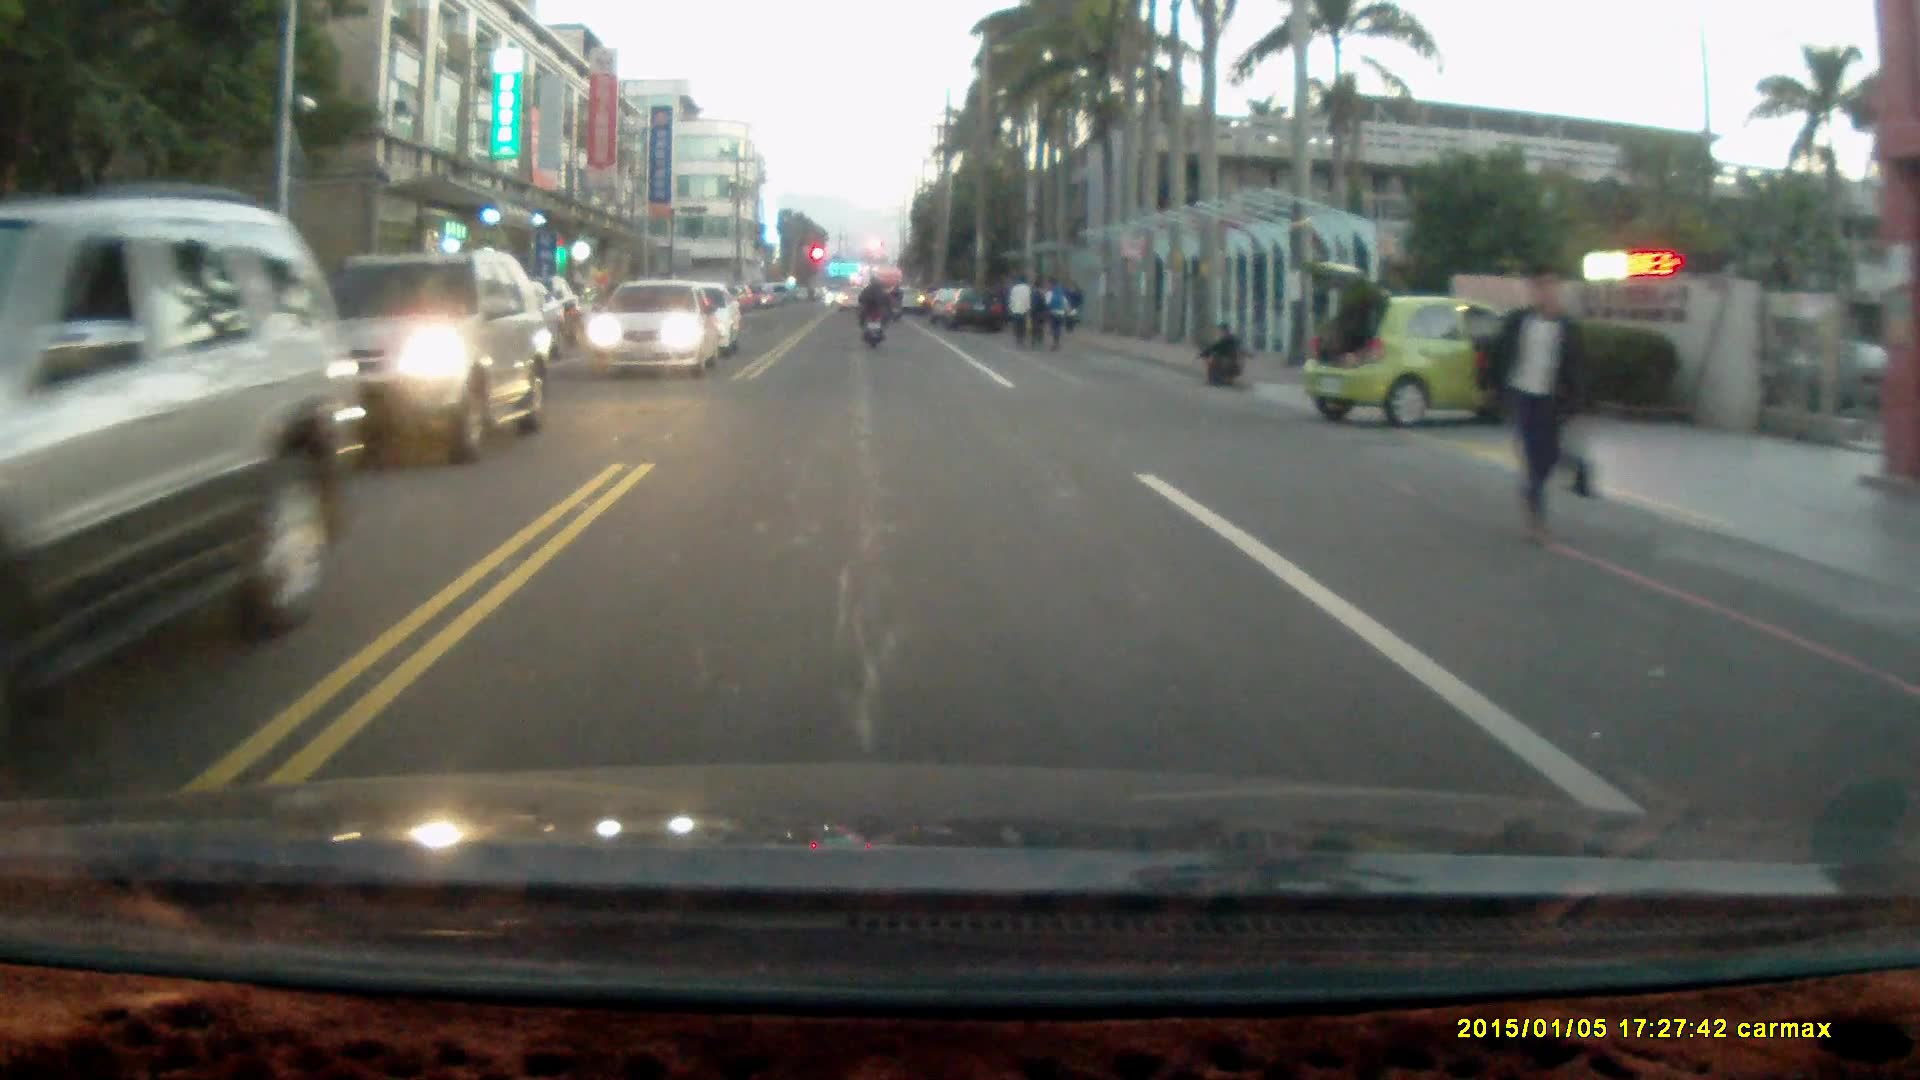pedestrian: (1478, 261, 1595, 548), (1200, 324, 1246, 392), (1039, 275, 1072, 350), (1007, 278, 1033, 358), (1025, 282, 1050, 355)
rider: (854, 276, 890, 351)
vehicle: (1, 192, 363, 810), (251, 251, 554, 470), (1301, 263, 1561, 432), (584, 282, 717, 381), (945, 281, 1005, 334)
